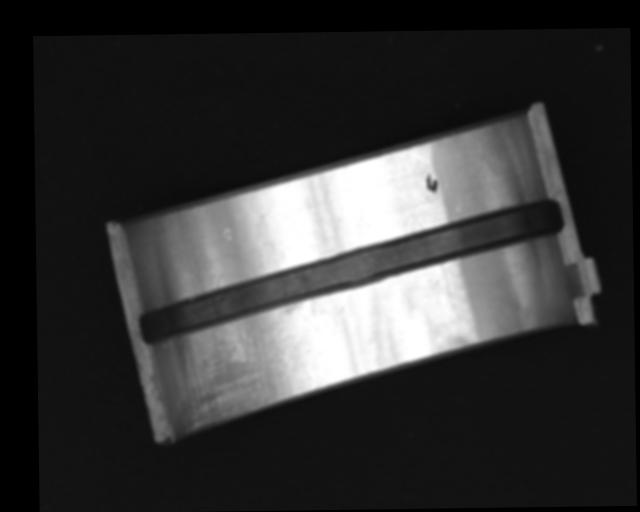blot: (424, 171, 440, 193)
bruise: (223, 227, 233, 241)
gap: (139, 198, 565, 341)
nick: (442, 260, 456, 308)
scratch: (175, 302, 306, 433)
